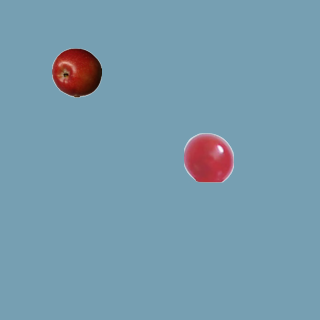Apple Braeburn: (51, 47, 101, 97)
Redcurrant: (183, 132, 233, 182)
